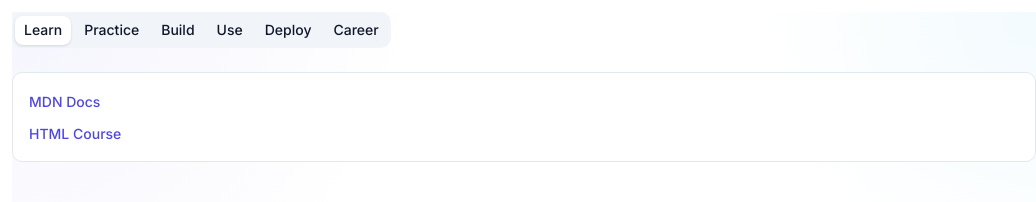
Scenario: NodeSectionPanel › External link attributes (Req 5.10, 5.11) › shows inline error when window.open fails (Req 5.11)
The image size is (1036, 202).
Step 1. Click the link "MDN Docs" → click(65, 102), box [29,92,100,112]
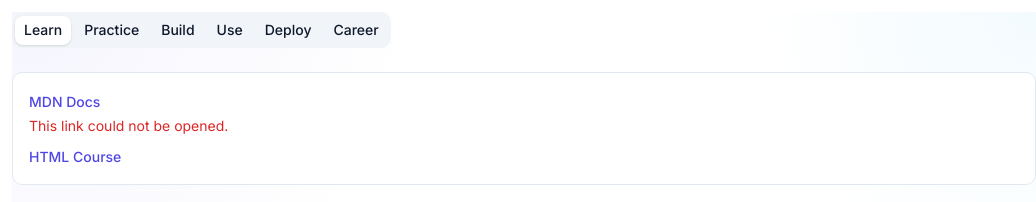
Check: the message reads "This link could not be opened.", box [29,117,228,134]
